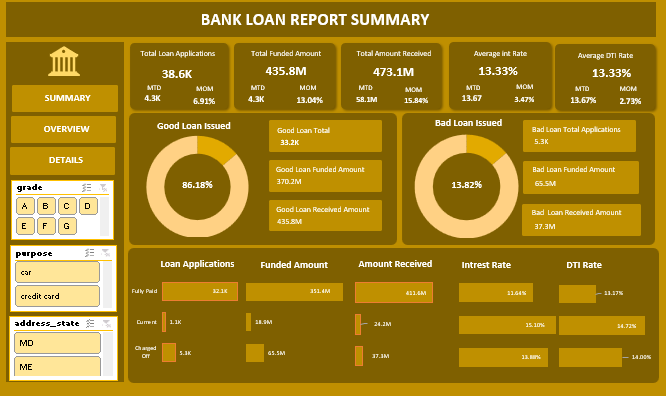

The page's visual inventory and layout, read from the dashboard file:
{"tool":"powerbi","page":{"name":"Summary","canvas":[1280,720],"ordinal":0},"visuals":[{"type":"donutChart","title":"Good  Loan Percentage","fields":{"Y":["public bank_loan_data.Good Loan Total Applications","public bank_loan_data.Bad Loan Total Applications"]},"box":[240.1,232.8,248.5,263],"z":0},{"type":"cardVisual","fields":{"Data":["public bank_loan_data.Good Loan Total Applications","public bank_loan_data.Good Loan Funded Amount","public bank_loan_data.Good Loan Total Amount Received"]},"box":[498.3,232.8,244.9,263],"z":1000},{"type":"card","fields":{"Values":["public bank_loan_data.Good Loan Percentag"]},"box":[311.3,351.1,106.2,42.2],"z":2000},{"type":"card","fields":{"Values":["public bank_loan_data.Bad Loan Percentage"]},"box":[1091.8,435.5,106.2,42.2],"z":3000},{"type":"pivotTable","fields":{"Rows":["public bank_loan_data.loan_status"],"Values":["public bank_loan_data.Total Loan Applications","public bank_loan_data.Total Funded Amount","public bank_loan_data.Total amount received","public bank_loan_data.Avg intrest rate","public bank_loan_data.Avg DTI"]},"box":[241.3,511.5,1026.7,195.4],"z":4000},{"type":"donutChart","title":"Good  Loan Percentage","fields":{"Y":["public bank_loan_data.Good Loan Total Applications","public bank_loan_data.Bad Loan Total Applications"]},"box":[755.2,232.8,248.5,263],"z":5000},{"type":"card","fields":{"Values":["public bank_loan_data.Bad Loan Percentage"]},"box":[826.4,352.3,106.2,41],"z":6000},{"type":"cardVisual","fields":{"Data":["public bank_loan_data.Bad Loan Total Applications","public bank_loan_data.Bad Loan Funded Amount","public bank_loan_data.Bad Loan Total Amount Received"]},"box":[1020.6,232.8,244.9,263],"z":7000},{"type":"cardVisual","fields":{"Data":["public bank_loan_data.Total Loan Applications","public bank_loan_data.Total Funded Amount","public bank_loan_data.Total amount received","public bank_loan_data.Avg intrest rate","public bank_loan_data.Avg DTI"]},"box":[240.1,82,1026.7,142.4],"z":8000},{"type":"slicer","title":"State","fields":{"Values":["public bank_loan_data.address_state"]},"box":[8.4,569.4,220.8,63.9],"z":9000},{"type":"slicer","title":"Grade","fields":{"Values":["public bank_loan_data.grade"]},"box":[10.9,489.8,219.6,63.9],"z":10000},{"type":"slicer","title":"Purpose","fields":{"Values":["public bank_loan_data.purpose"]},"box":[8.4,643,220.8,63.9],"z":11000},{"type":"textbox","box":[12.1,10.9,1254.7,60.3],"z":12000},{"type":"pageNavigator","title":"Menu","box":[8.4,255.8,222,216],"z":13000},{"type":"image","box":[21.2,82.5,207.5,158.8],"z":14000}]}

Visuals, with their boxes on the page's 1280x720 design canvas (x1, y1, x2, y2). These are canvas units, not pixel positions in the 666x396 screenshot, which may show the page scaled, cropped or inside an application window:
"Good  Loan Percentage" donutChart: box(240, 233, 489, 496)
cardVisual - public bank_loan_data.Good Loan Total Applications x public bank_loan_data.Good Loan Funded Amount: box(498, 233, 743, 496)
card - public bank_loan_data.Good Loan Percentag: box(311, 351, 418, 393)
card - public bank_loan_data.Bad Loan Percentage: box(1092, 436, 1198, 478)
pivotTable - public bank_loan_data.loan_status x public bank_loan_data.Total Loan Applications: box(241, 512, 1268, 707)
"Good  Loan Percentage" donutChart: box(755, 233, 1004, 496)
card - public bank_loan_data.Bad Loan Percentage: box(826, 352, 933, 393)
cardVisual - public bank_loan_data.Bad Loan Total Applications x public bank_loan_data.Bad Loan Funded Amount: box(1021, 233, 1266, 496)
cardVisual - public bank_loan_data.Total Loan Applications x public bank_loan_data.Total Funded Amount: box(240, 82, 1267, 224)
"State" slicer: box(8, 569, 229, 633)
"Grade" slicer: box(11, 490, 230, 554)
"Purpose" slicer: box(8, 643, 229, 707)
textbox: box(12, 11, 1267, 71)
"Menu" pageNavigator: box(8, 256, 230, 472)
image: box(21, 82, 229, 241)
